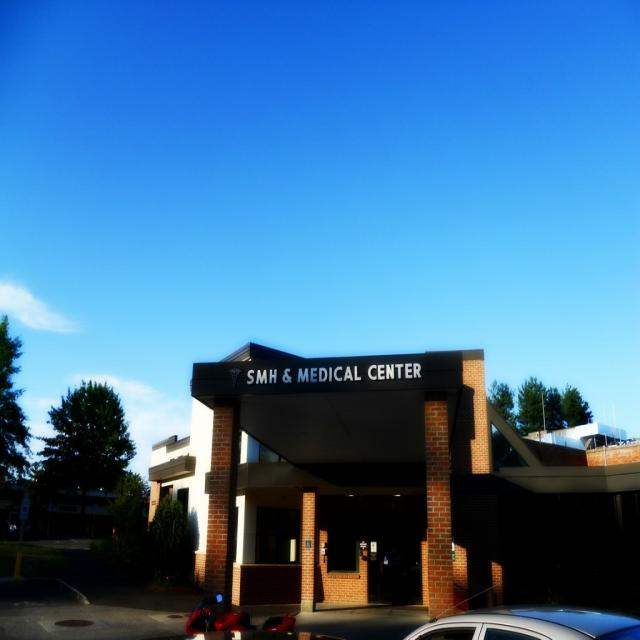other: (404, 601, 640, 639)
